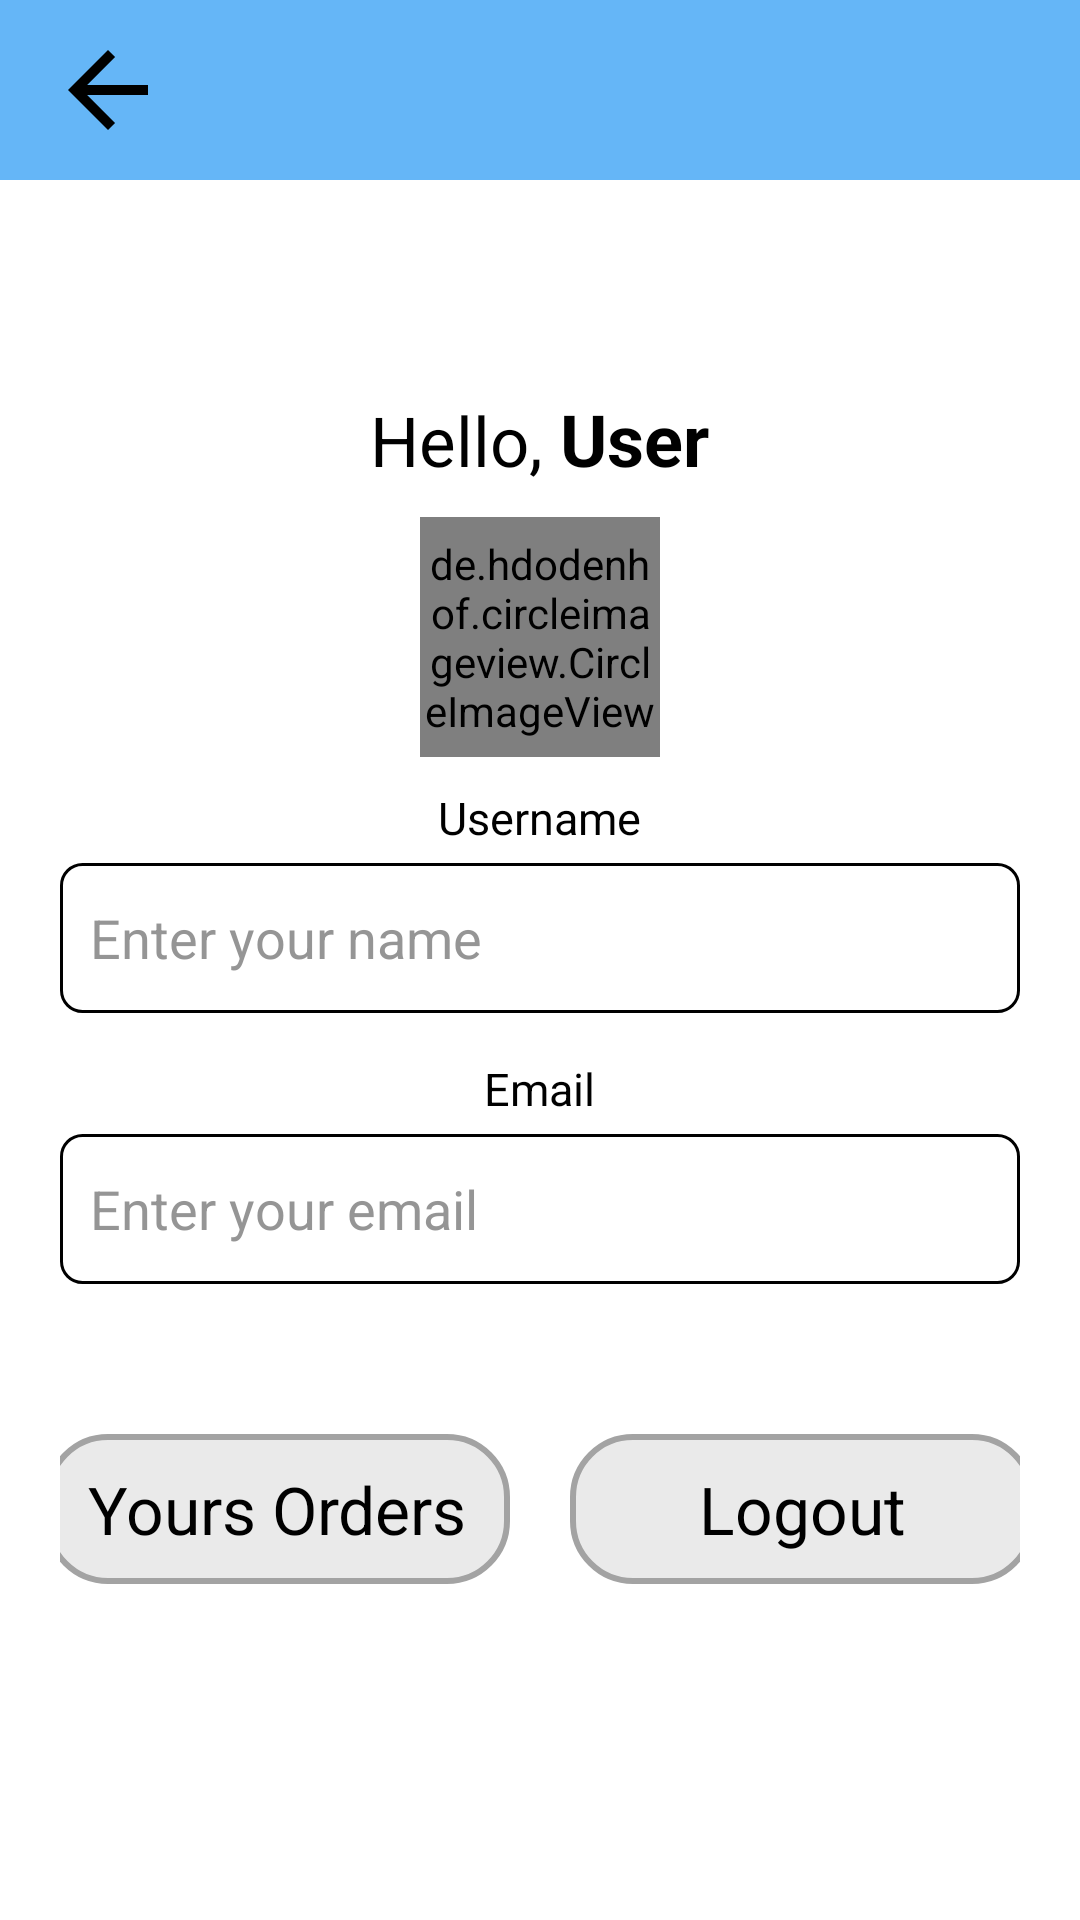

Named icons in this screenshot (1080x1920) and their centers, point (x, y):
back: point (108, 90)
